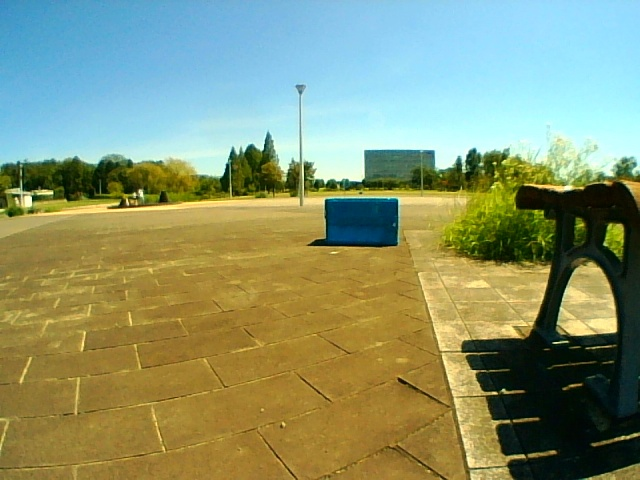blue_box: (326, 198, 397, 246)
